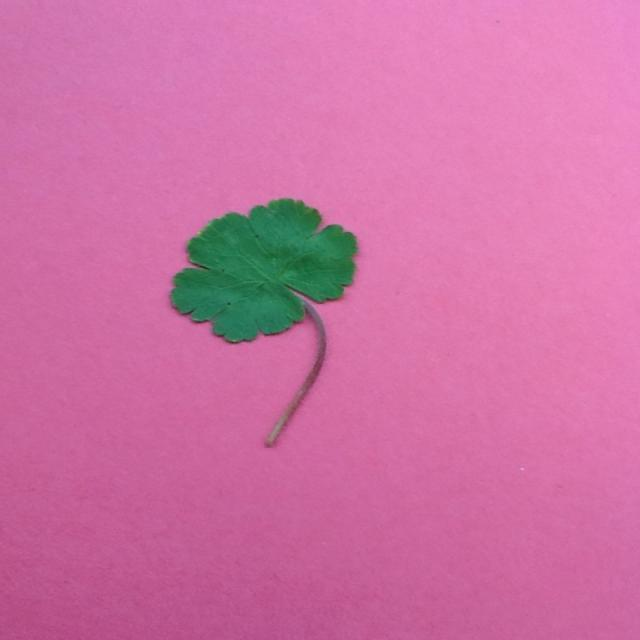foliage: (169, 197, 361, 447)
